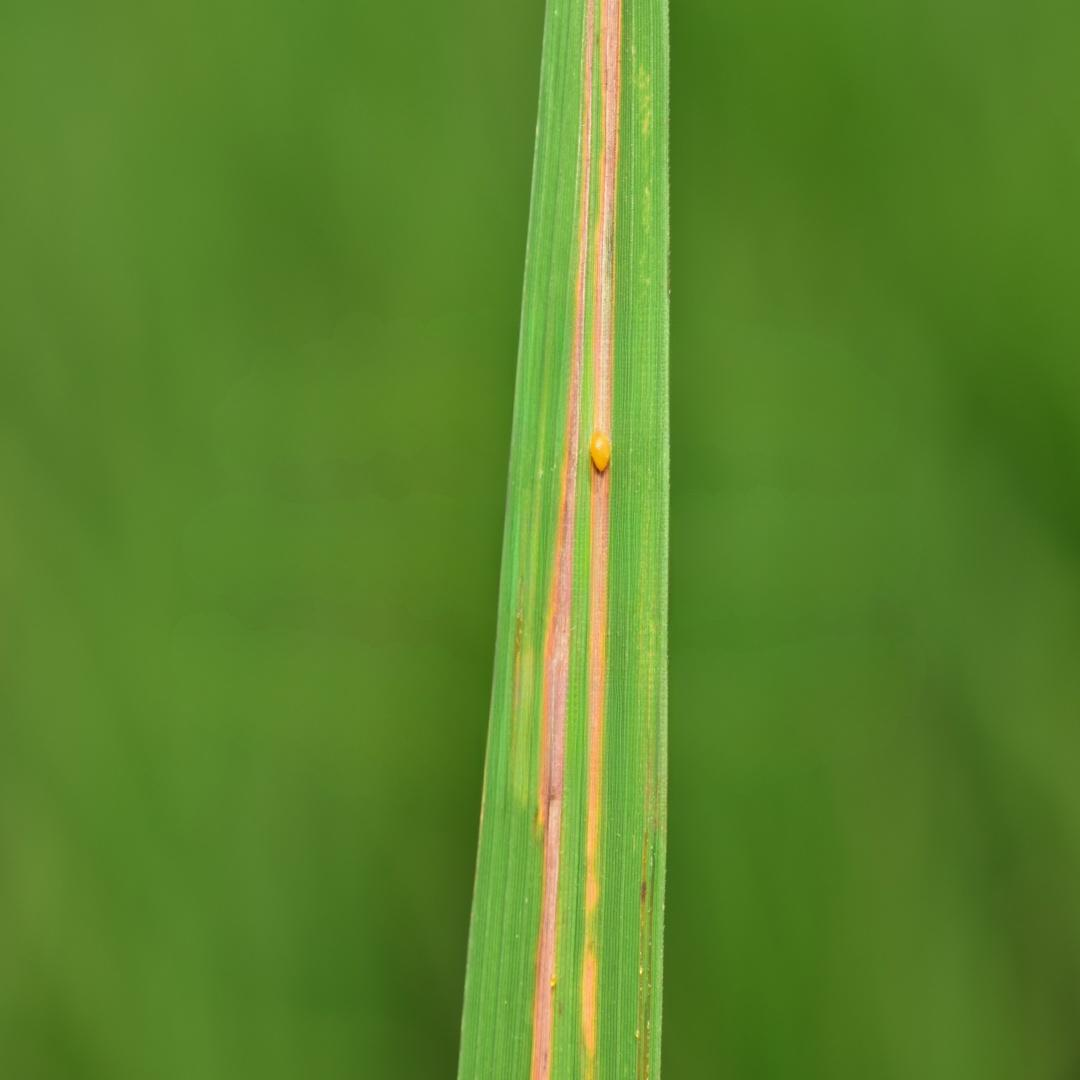BLB: (529, 0, 595, 1079), (581, 0, 623, 1079)
LEAF: (458, 0, 668, 1079)
